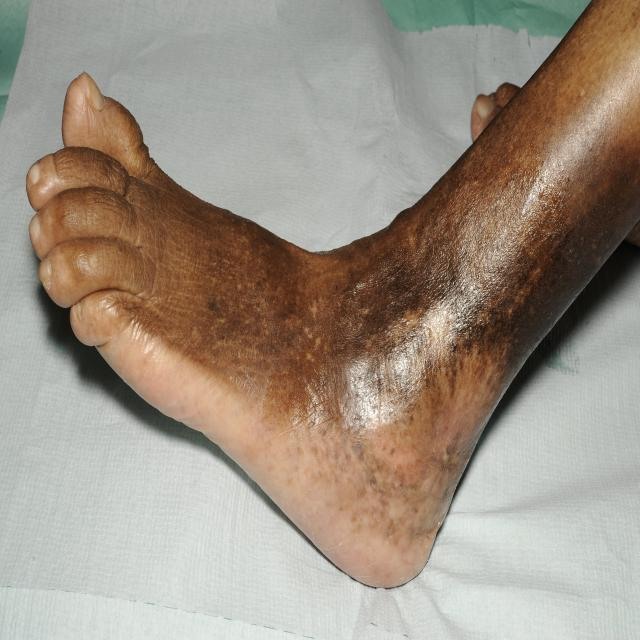wound: (154, 160, 622, 412)
